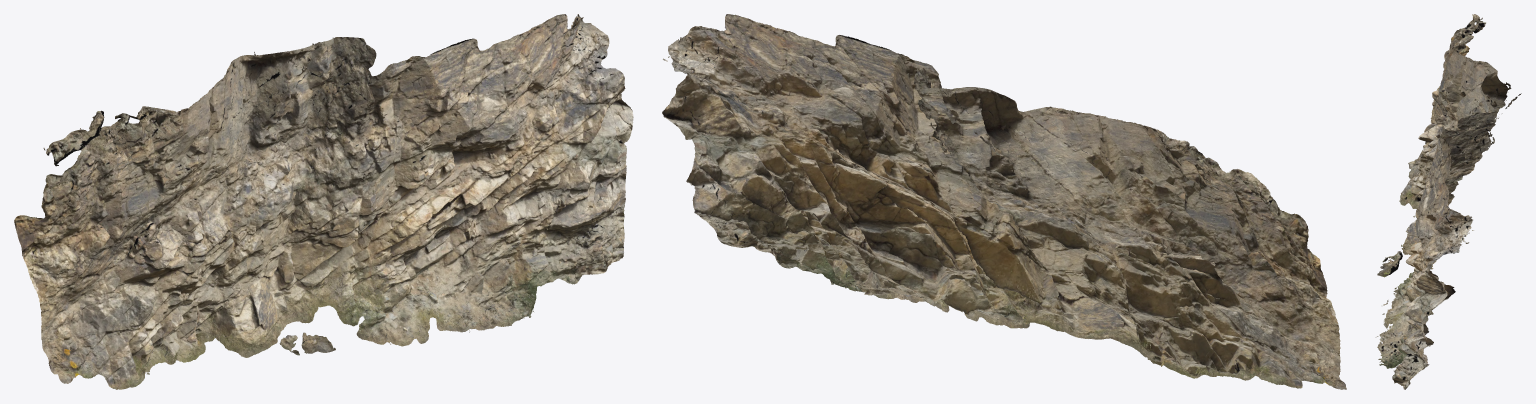
The model's file is sf-rock-wall-scan-166ad4.glb.
The picture shows the model from 3 angles, left to right: view 1: azimuth 30°, elevation 25°; view 2: azimuth 150°, elevation 25°; view 3: azimuth 270°, elevation 25°; orthographic projection. The views are drawn at different scales.
Parts seen in each view (by area): view 1: Model_material0_0; view 2: Model_material0_0; view 3: Model_material0_0.
Part boxes in pixels (bbox=[...]): Model_material0_0: bbox=[14, 14, 633, 389]; Model_material0_0: bbox=[662, 14, 1346, 389]; Model_material0_0: bbox=[1375, 14, 1521, 389].
Bounding box in the file's own units: 14.89 × 6.37 × 3.92.
Materials: 1 (1 with a texture image).
